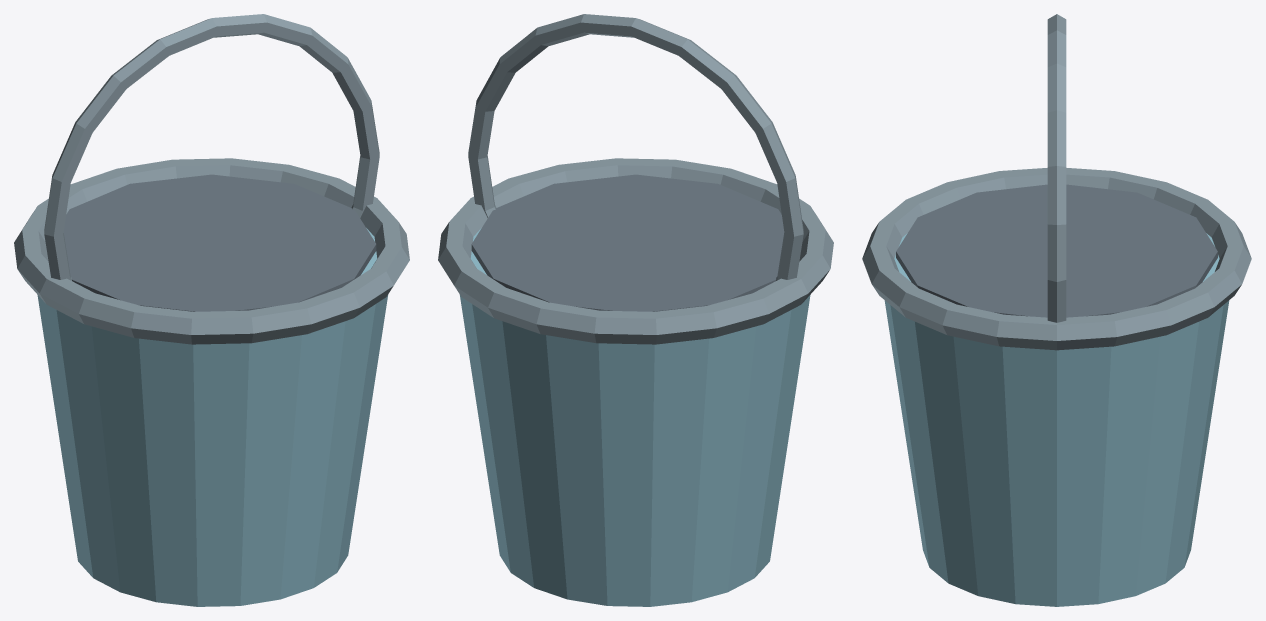
File: bucket.glb
3 renders of one model, left to right at view 1: azimuth 30°, elevation 25°; view 2: azimuth 150°, elevation 25°; view 3: azimuth 270°, elevation 25°, orthographic. The views are drawn at different scales.
Visible parts, largest first — view 1: bucket_000, bucket_001, bucket_002, bucket_003; view 2: bucket_000, bucket_001, bucket_002, bucket_003; view 3: bucket_000, bucket_001, bucket_002, bucket_003.
Part boxes in pixels (x1,y1,x2,y2): bucket_000: (37, 228, 388, 606); bucket_001: (63, 174, 376, 311); bucket_002: (14, 158, 409, 344); bucket_003: (44, 14, 379, 280); bucket_000: (459, 228, 810, 606); bucket_001: (471, 174, 784, 311); bucket_002: (438, 158, 833, 344); bucket_003: (468, 14, 803, 280); bucket_000: (884, 233, 1229, 606); bucket_001: (896, 184, 1217, 317); bucket_002: (862, 168, 1251, 350); bucket_003: (1047, 14, 1066, 322).
Size of the model in its own units: 0.436 by 0.642 by 0.436.
